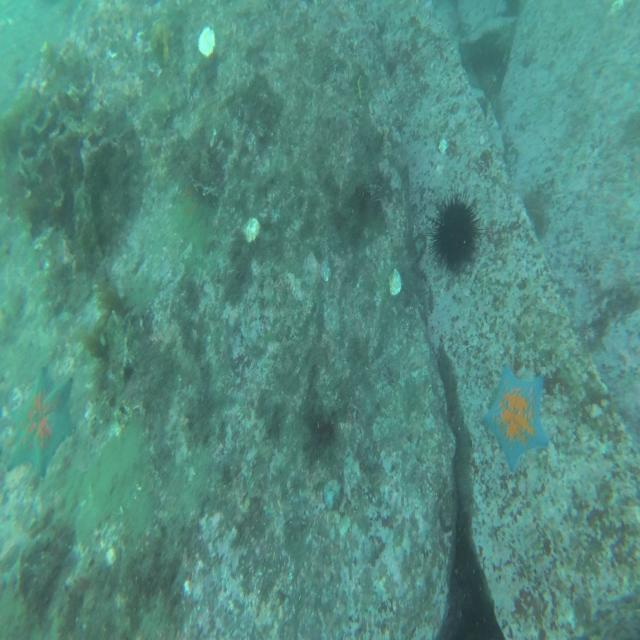echinus: (429, 193, 480, 268)
starfish: (483, 356, 552, 470), (8, 363, 72, 473)
